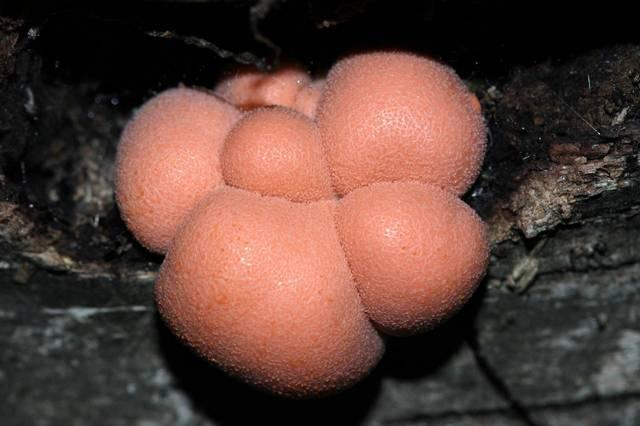poisonous_mushroom: (112, 48, 492, 398), (152, 183, 386, 398), (314, 48, 488, 196), (334, 179, 491, 335), (112, 84, 242, 255)
